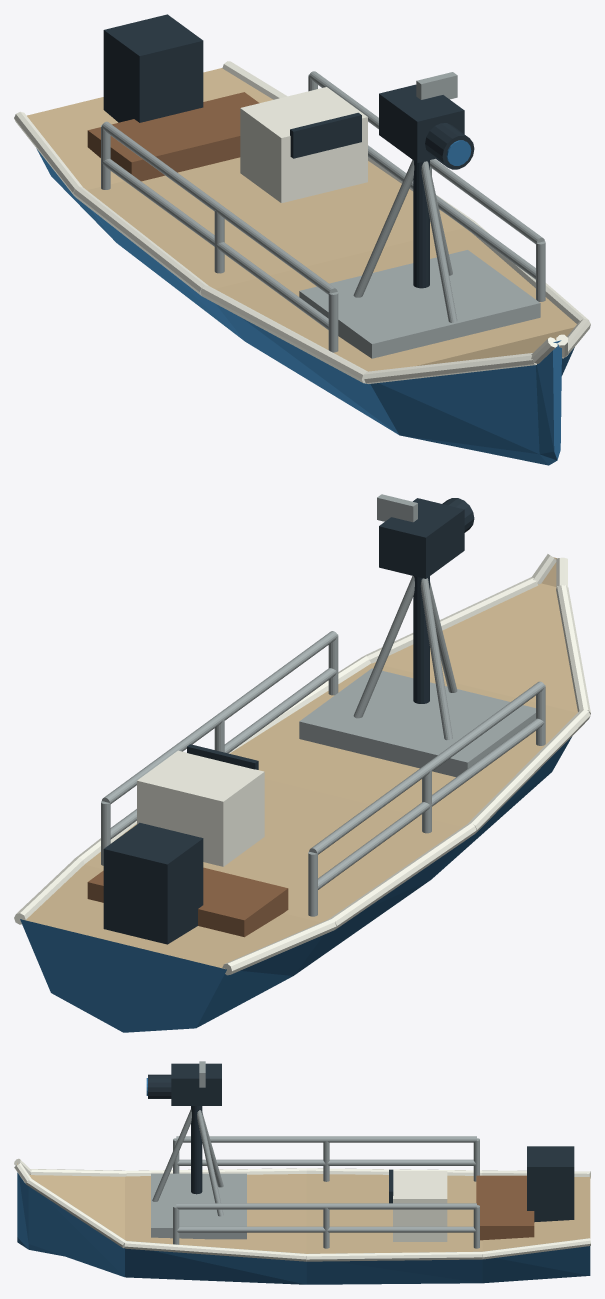
File: scendance-plan-camera-boat.glb
3 views of the same model, one above another, from view 1: azimuth 30°, elevation 25°; view 2: azimuth 150°, elevation 25°; view 3: azimuth 270°, elevation 25° (orthographic). The views are drawn at different scales.
Bounding box in the file's own units: 1.82 × 2 × 4.98.
